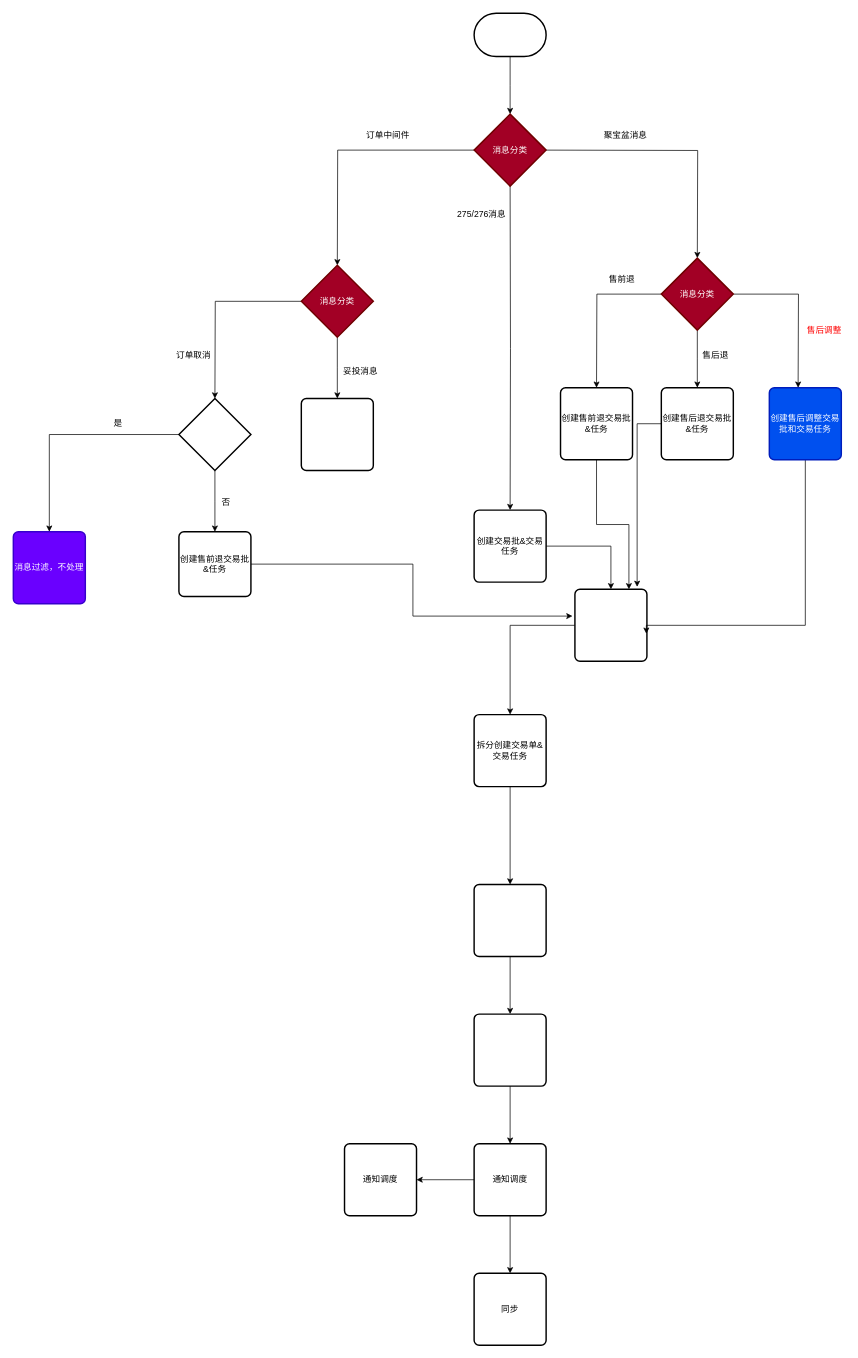
Image size: 858x1358. Some labels were removed from this diagram. The centre of each missing label's shape, as x and y in pixels:
业务识别: pixel 610 625
交易单: pixel 337 434
开始: pixel 509 34
快照: pixel 509 920
计费: pixel 509 1049
订单被调整过: pixel 214 434
